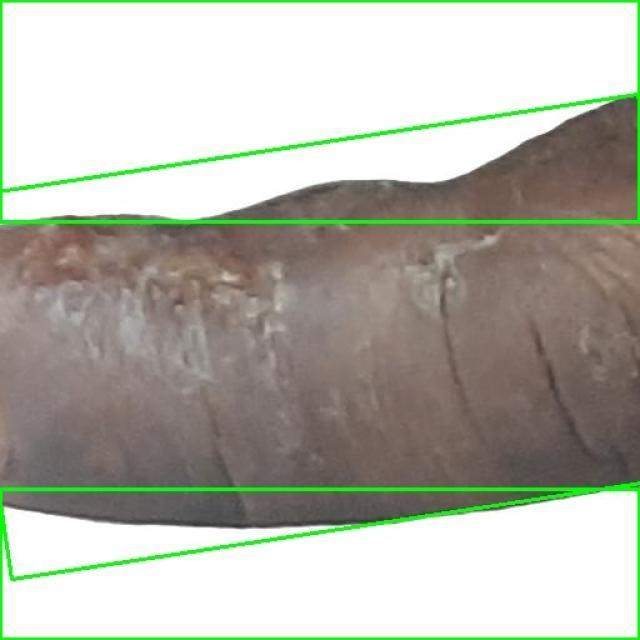Eczema: (0, 94, 640, 579), (0, 0, 639, 221), (0, 489, 639, 639)
